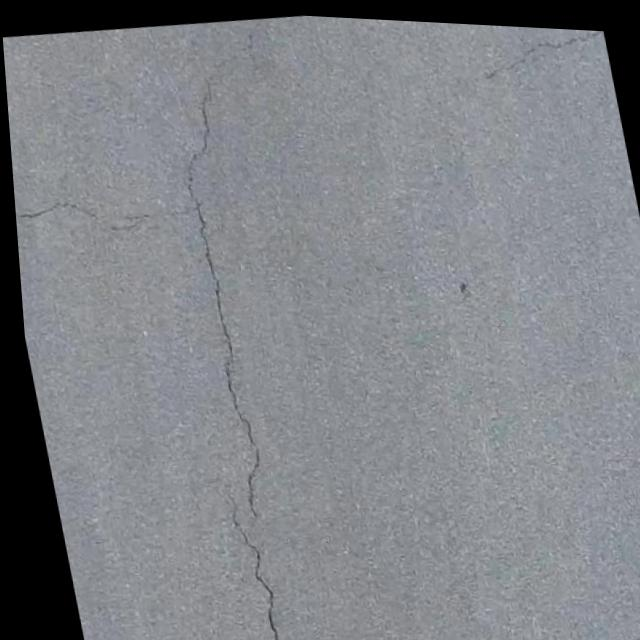Crack: (152, 21, 318, 640), (10, 177, 99, 243)
